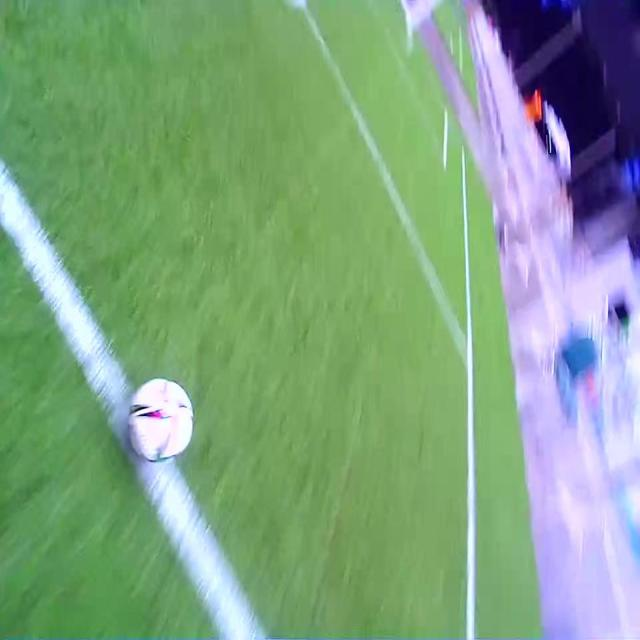ball: (128, 377, 193, 460)
